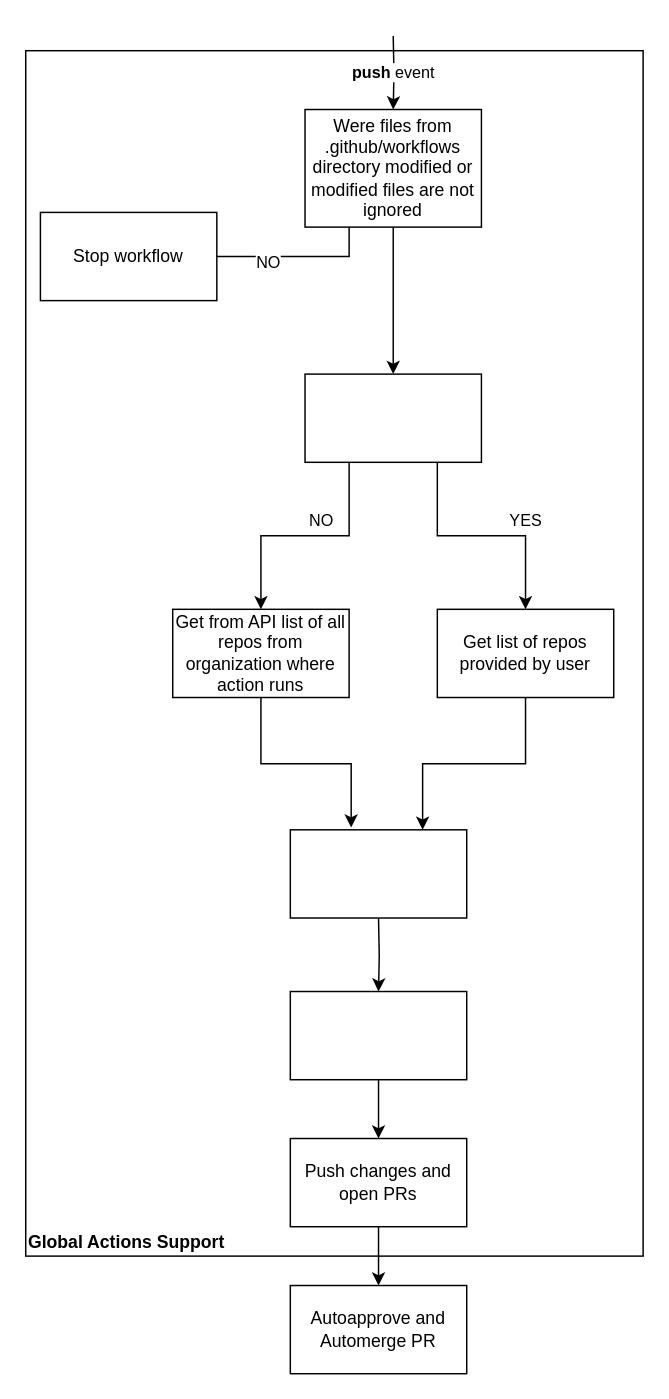
This 669x1399 diagram has some shape labels left out. The shapes that lost their labels are listed below. From the top down, each one's box as (x1, y1, x2, y2) in pixels, then its label:
(304, 373, 481, 462): Did user provide a list of repos where change needs to be replicated
(289, 828, 467, 918): Clone all repos and create new branch
(289, 990, 467, 1080): Copy changes over to the same location in cloned repos
